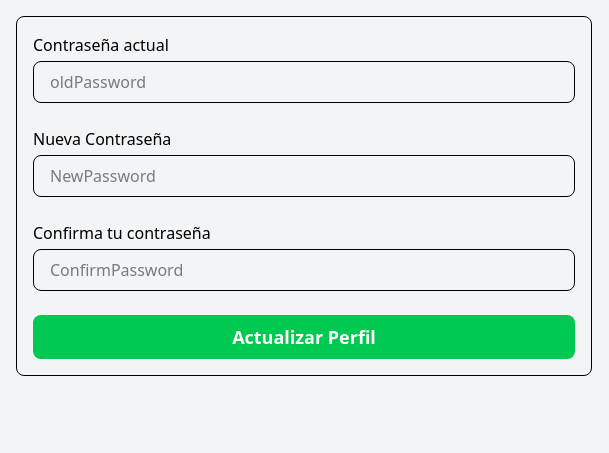
Test: FormUpdateInfoUser Test › Validaciones › Debe de mostrar error de validación en el campo de old password
The width and height of the screenshot is (609, 453).
Type "oldPa" into the password field with placeholder "oldPassword".
click(304, 82); type("oldPa")  # box top-left (33, 61), bottom-right (575, 103)
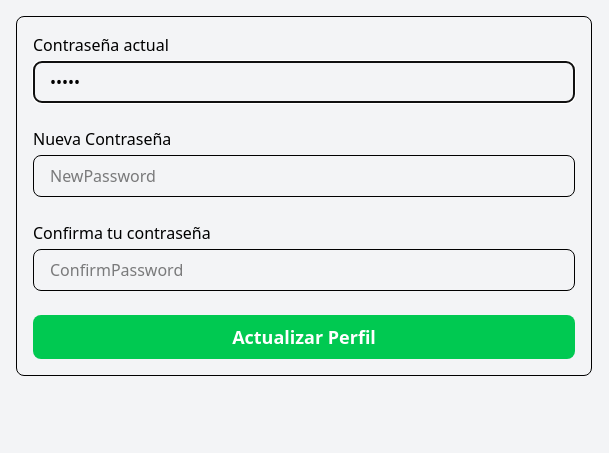
Press Tab
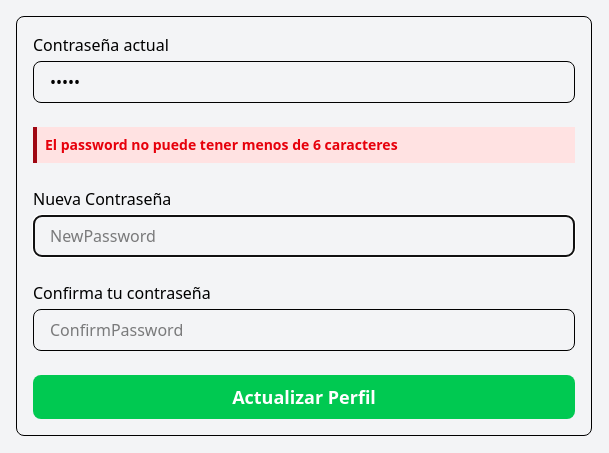
Check: the text "El password no puede tener menos de 6 caracteres" is shown, box top-left (33, 127), bottom-right (575, 163)
